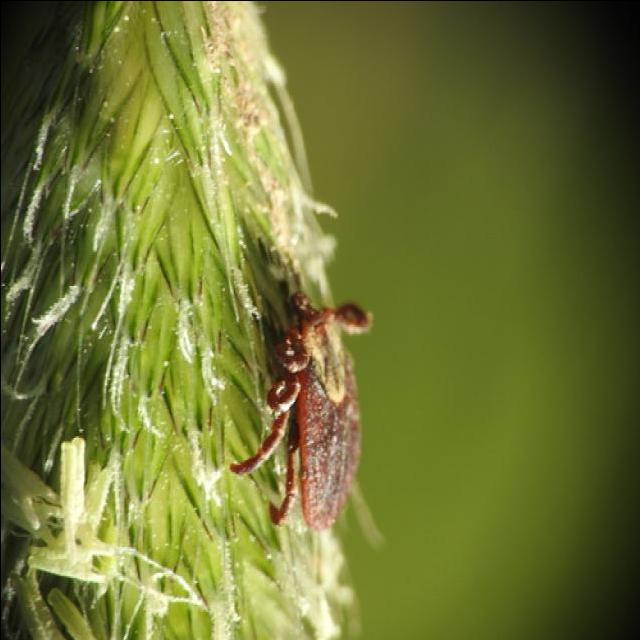Dermacentor Reticulatus-F: (228, 290, 371, 529)
